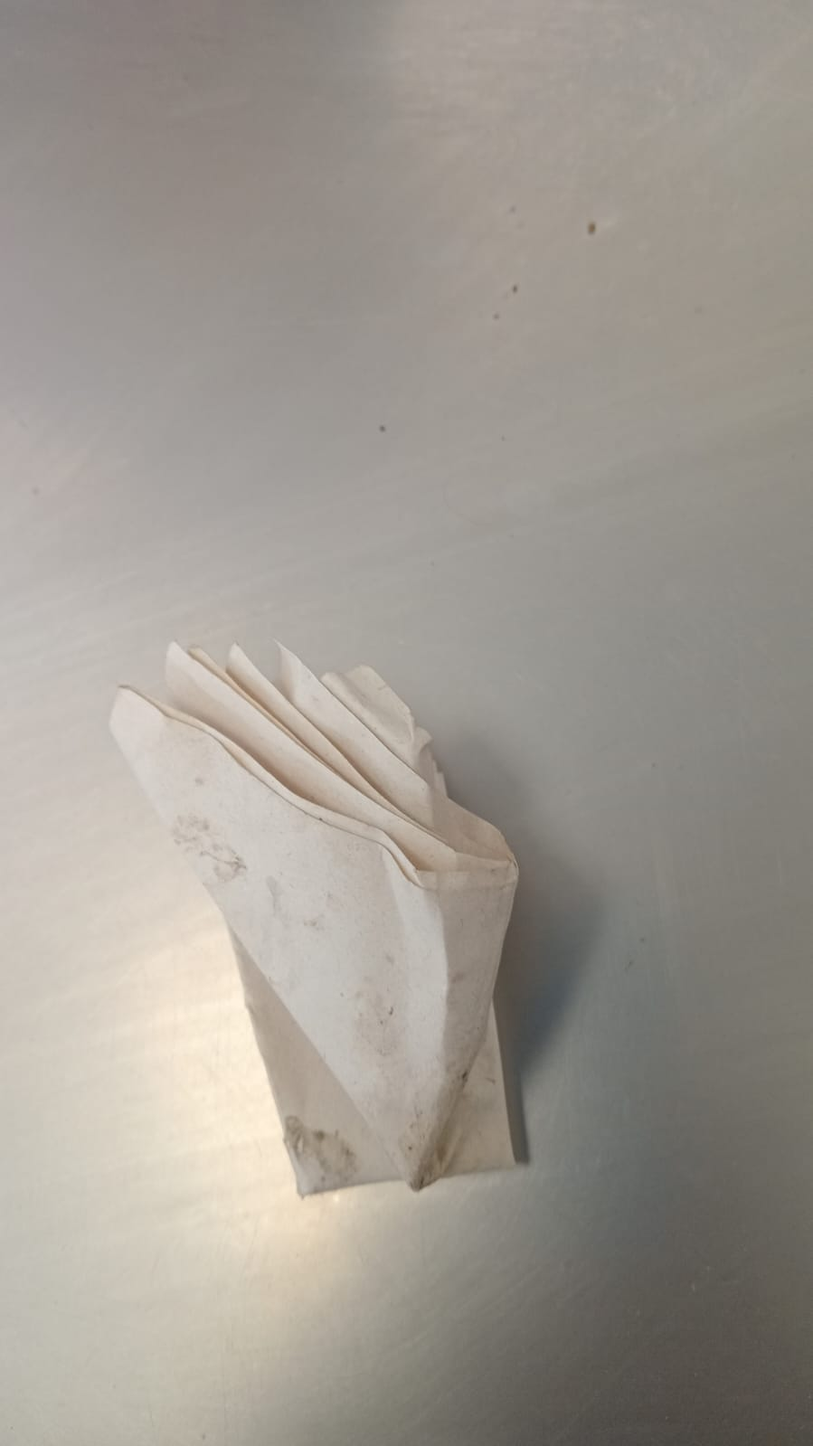Papel: (111, 631, 524, 1198)
